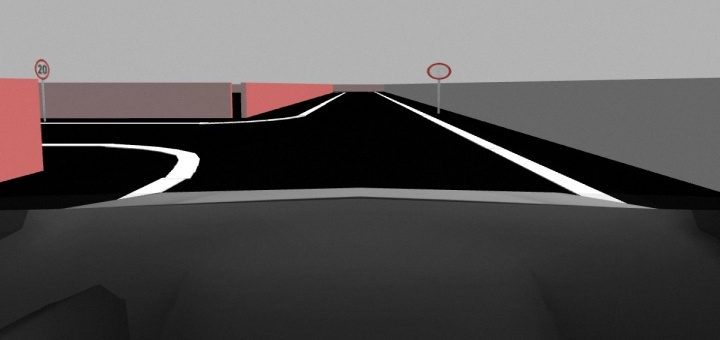girilmez: (426, 58, 456, 84)
